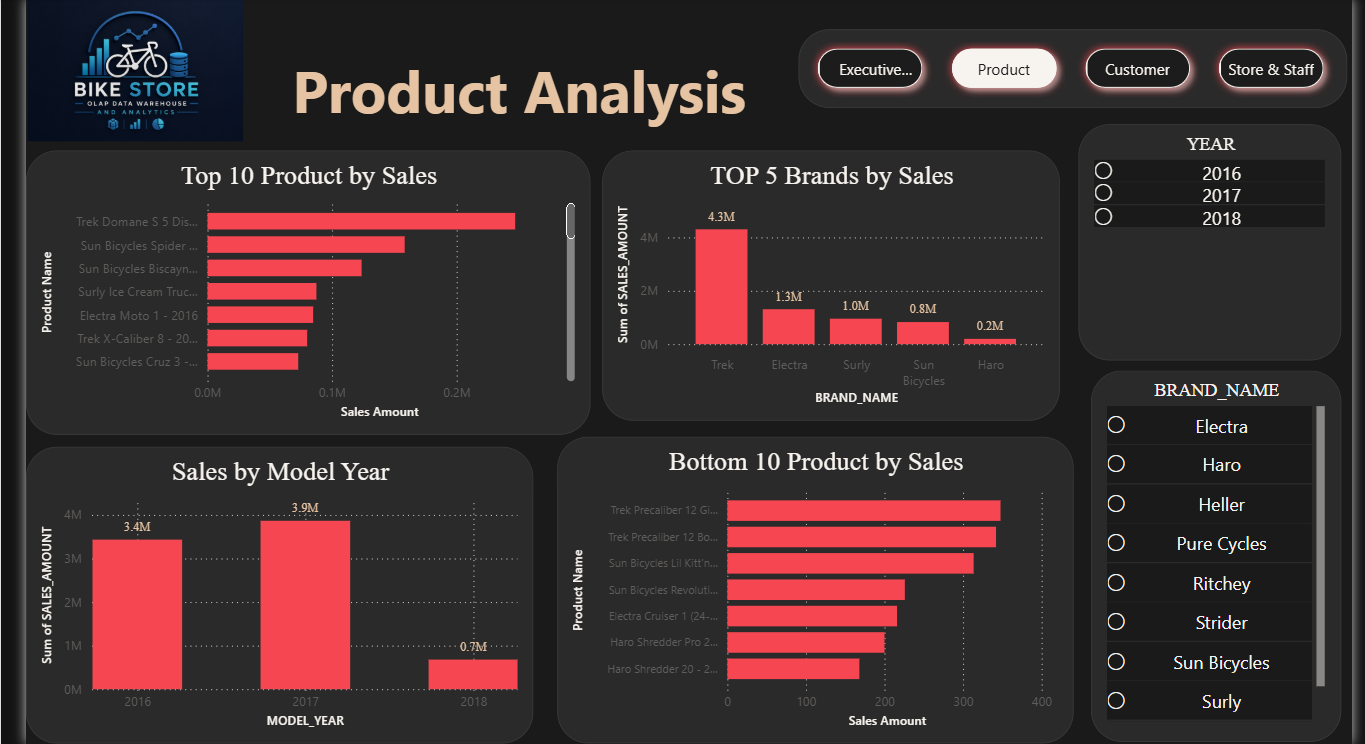

This screenshot's page, from the dashboard's own definition file:
{"tool":"powerbi","page":{"name":"Products","canvas":[1280,720],"ordinal":1},"visuals":[{"type":"image","box":[0,0,211.3,138.6],"z":0},{"type":"textbox","box":[211,0,518.8,91.2],"z":1000},{"type":"pageNavigator","box":[749.8,0,530.2,91.2],"z":2000},{"type":"clusteredBarChart","fields":{"Category":["DIM_PRODUCTS.PRODUCT_NAME"],"Y":["Sum(FACT_SALES.SALES_AMOUNT)"]},"box":[8.6,158.2,644.3,258],"z":3000},{"type":"columnChart","title":"Sales by Model Year","fields":{"Category":["DIM_PRODUCTS.MODEL_YEAR"],"Y":["Sum(FACT_SALES.SALES_AMOUNT)"]},"box":[8.6,433.3,508.9,286.5],"z":4000},{"type":"clusteredBarChart","fields":{"Category":["DIM_PRODUCTS.PRODUCT_NAME"],"Y":["Sum(FACT_SALES.SALES_AMOUNT)"]},"box":[528.8,433.3,497.5,286.5],"z":5000},{"type":"clusteredColumnChart","fields":{"Category":["DIM_PRODUCTS.BRAND_NAME"],"Y":["Sum(FACT_SALES.SALES_AMOUNT)"]},"box":[664.2,161.1,379.2,243.7],"z":6000},{"type":"listSlicer","fields":{"Values":["DIM_DATE.YEAR"]},"box":[1057.6,114,222.4,225.2],"z":7000},{"type":"listSlicer","fields":{"Values":["DIM_PRODUCTS.BRAND_NAME"]},"box":[1057.6,359.2,211,357.8],"z":8000}]}

Visuals, with their boxes on the page's 1280x720 design canvas (x1, y1, x2, y2). These are canvas units, not pixel positions in the 1365x744 screenshot, which may show the page scaled, cropped or inside an application window:
image: BBox(0, 0, 211, 139)
textbox: BBox(211, 0, 730, 91)
pageNavigator: BBox(750, 0, 1280, 91)
clusteredBarChart - DIM_PRODUCTS.PRODUCT_NAME x Sum(FACT_SALES.SALES_AMOUNT): BBox(9, 158, 653, 416)
"Sales by Model Year" columnChart: BBox(9, 433, 518, 720)
clusteredBarChart - DIM_PRODUCTS.PRODUCT_NAME x Sum(FACT_SALES.SALES_AMOUNT): BBox(529, 433, 1026, 720)
clusteredColumnChart - DIM_PRODUCTS.BRAND_NAME x Sum(FACT_SALES.SALES_AMOUNT): BBox(664, 161, 1043, 405)
listSlicer - DIM_DATE.YEAR: BBox(1058, 114, 1280, 339)
listSlicer - DIM_PRODUCTS.BRAND_NAME: BBox(1058, 359, 1269, 717)
